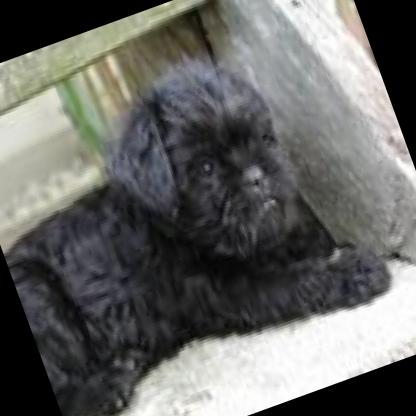affenpinscher: (0, 21, 393, 416)
